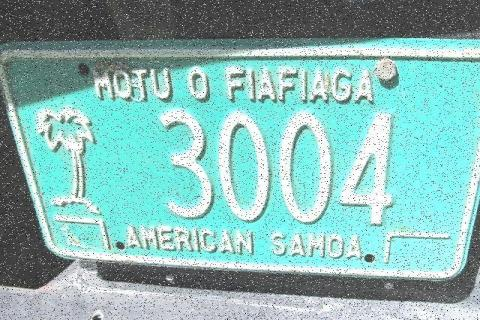LicensePlate: (0, 50, 476, 284)
